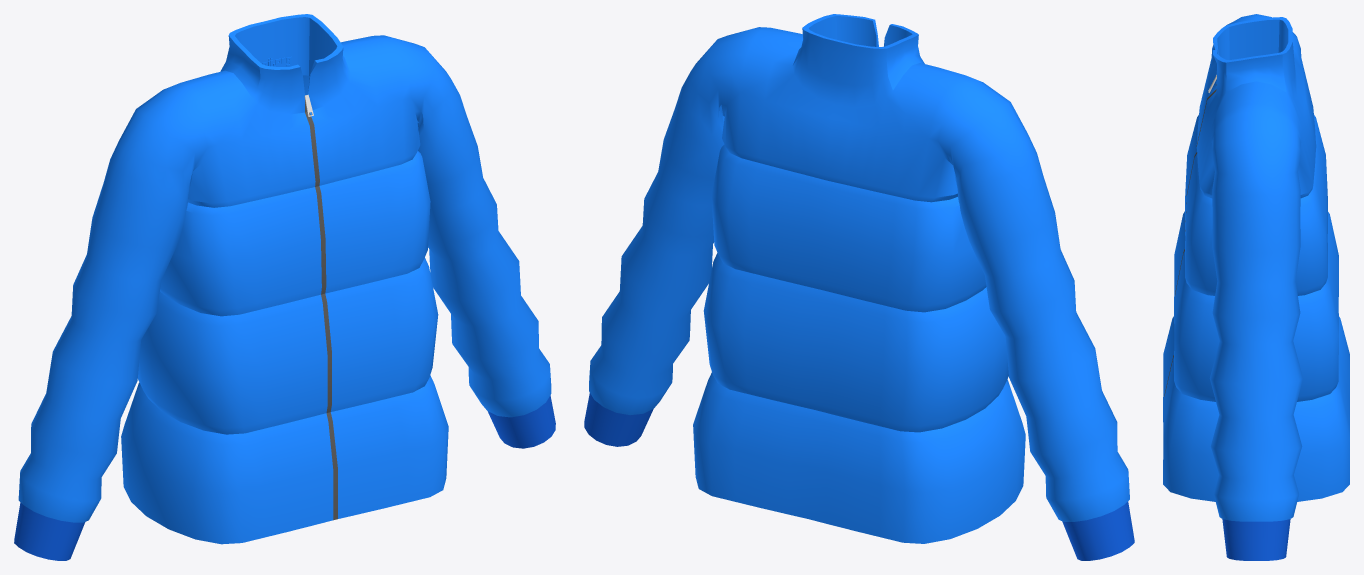
File: coat.glb
The picture shows the model from 3 angles, left to right: view 1: azimuth 30°, elevation 25°; view 2: azimuth 150°, elevation 25°; view 3: azimuth 270°, elevation 25°; orthographic projection. The views are drawn at different scales.
Parts seen in each view (by area): view 1: Circle.1787; view 2: Circle.1787; view 3: Circle.1787.
Boxes of the visible parts, x1=… form: Circle.1787: x1=14, y1=14, x2=555, y2=560; Circle.1787: x1=584, y1=14, x2=1134, y2=560; Circle.1787: x1=1163, y1=14, x2=1349, y2=560.
Bounding box in the file's own units: 2.28 × 1.88 × 0.7585.
Materials: 1 (1 with a texture image).
